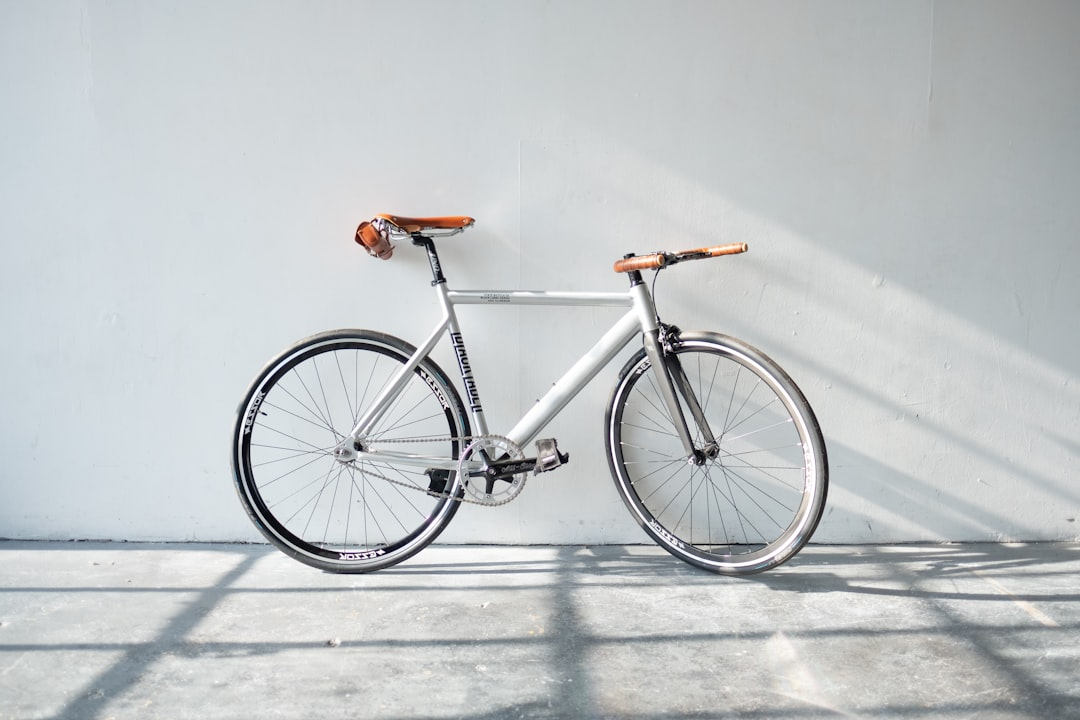bicycle: (229, 213, 826, 580)
